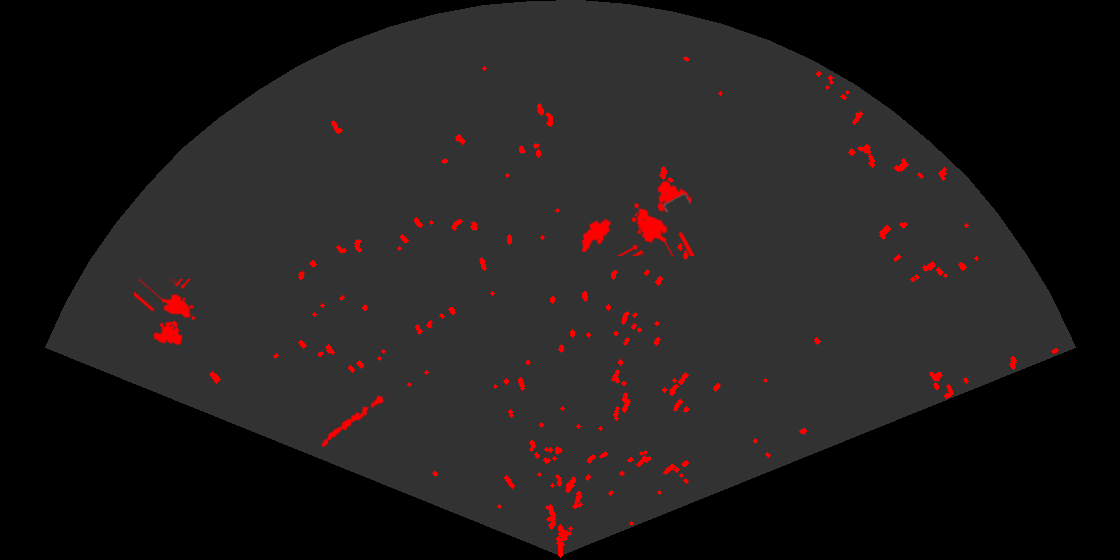AUV: (580, 217, 613, 254)
cage: (615, 179, 697, 256), (134, 279, 197, 347)
chain: (320, 391, 388, 449)
